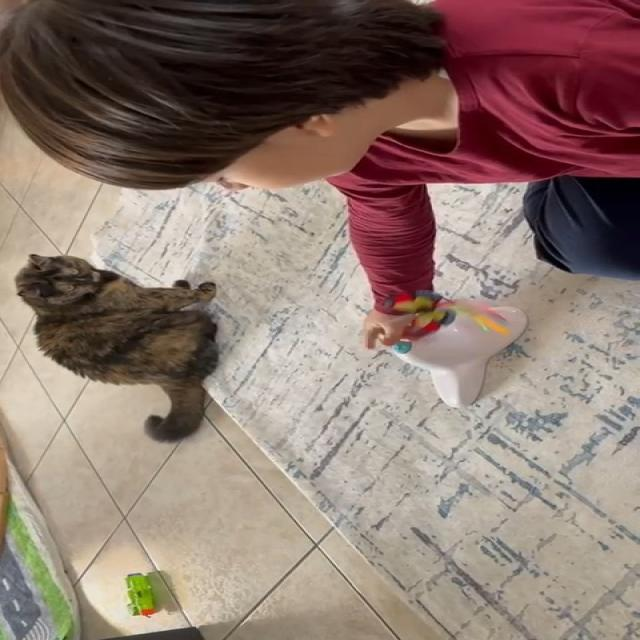authorized: (13, 253, 220, 443)
